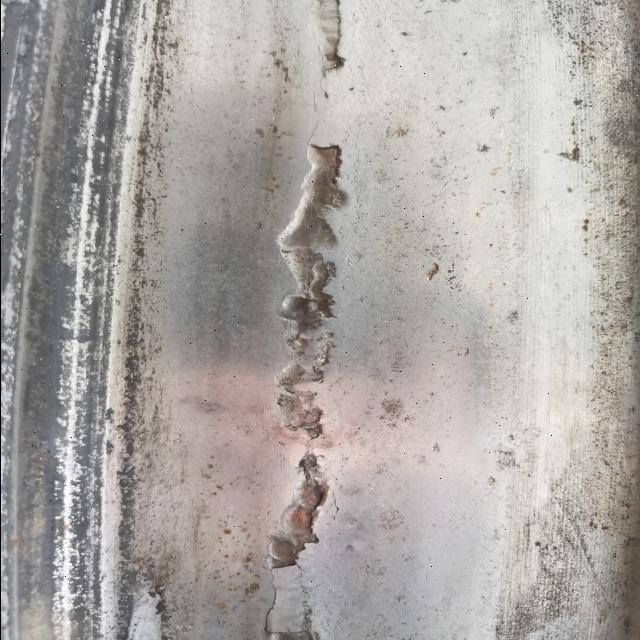boli: (248, 134, 364, 573)
